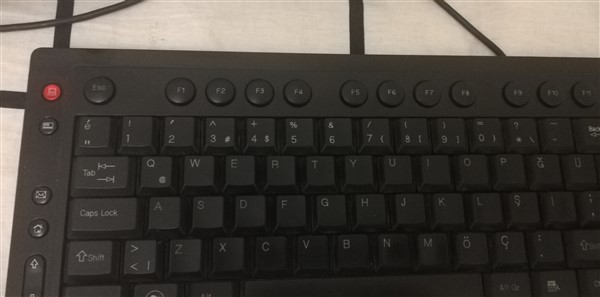klavye: (17, 45, 600, 295)
